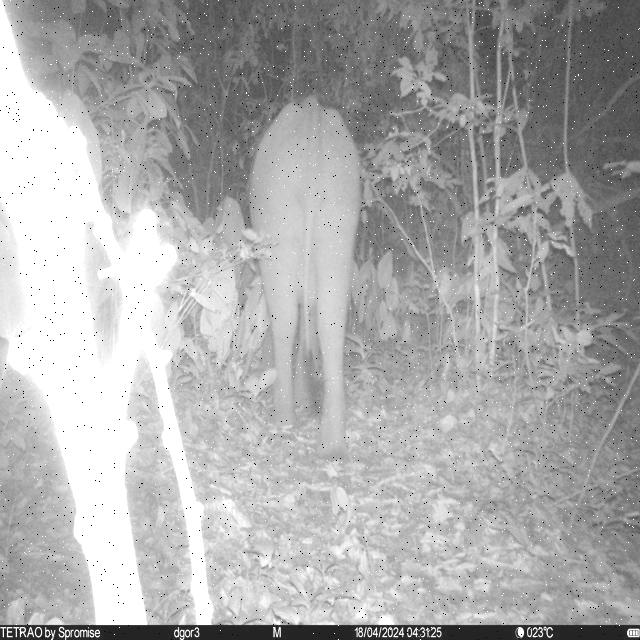elephant: (248, 97, 366, 460)
